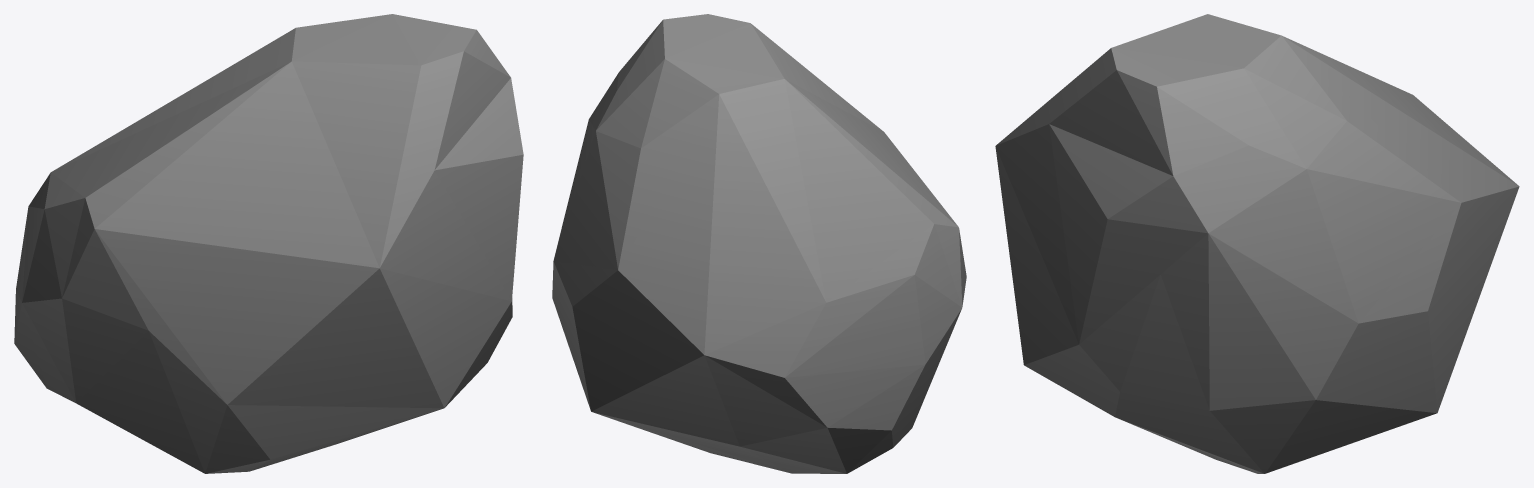
File: Env_Rock_01.obj
The picture shows the model from 3 angles, left to right: view 1: azimuth 30°, elevation 25°; view 2: azimuth 150°, elevation 25°; view 3: azimuth 270°, elevation 25°; orthographic projection. The views are drawn at different scales.
Visible parts, largest first — view 1: Env_Rock_01; view 2: Env_Rock_01; view 3: Env_Rock_01.
Part boxes in pixels (box(x1,y1,x2,y2)): Env_Rock_01: box(14, 14, 523, 473); Env_Rock_01: box(552, 14, 966, 473); Env_Rock_01: box(995, 14, 1519, 473).
Size of the model in its own units: 1.25 by 1.13 by 1.23.
Materials: 1 (1 with a texture image).
